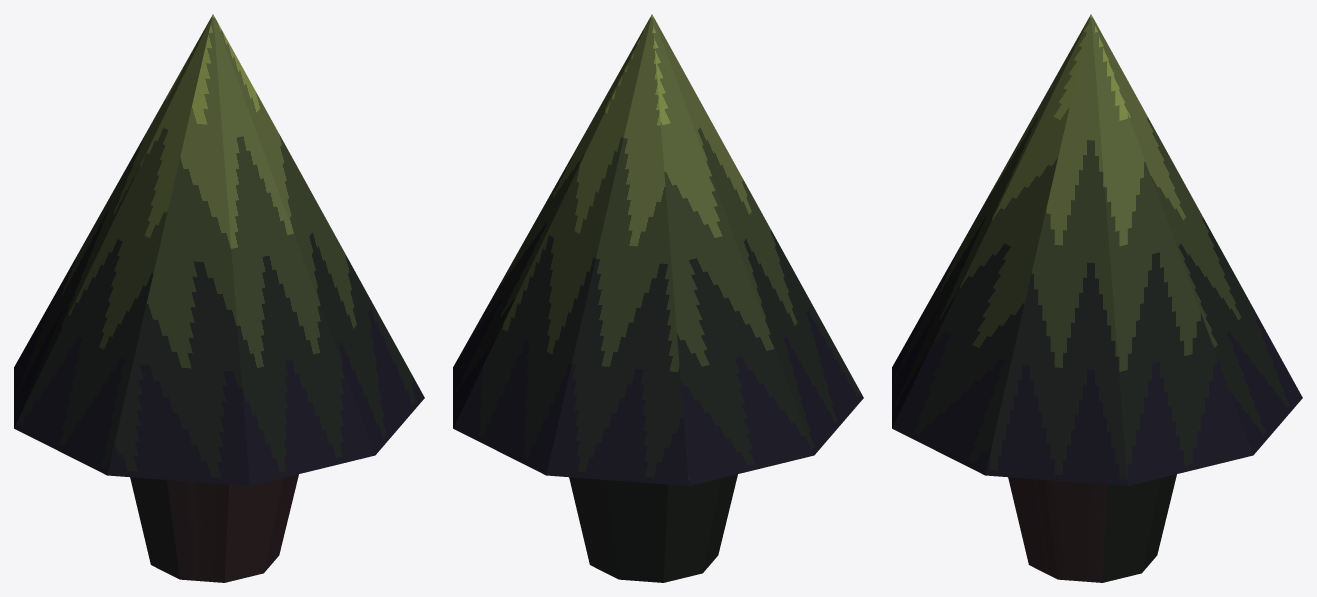
File: prop_tree 1.obj
3 views of the same model, side by side, from view 1: azimuth 30°, elevation 25°; view 2: azimuth 150°, elevation 25°; view 3: azimuth 270°, elevation 25° (orthographic).
Parts seen in each view (by area): view 1: Tree_1; view 2: Tree_1; view 3: Tree_1.
Boxes of the visible parts, bbox=[...] form: Tree_1: bbox=[14, 14, 424, 582]; Tree_1: bbox=[453, 14, 863, 582]; Tree_1: bbox=[892, 14, 1302, 582].
Bounding box in the file's own units: 1.97 × 2.82 × 1.94.
